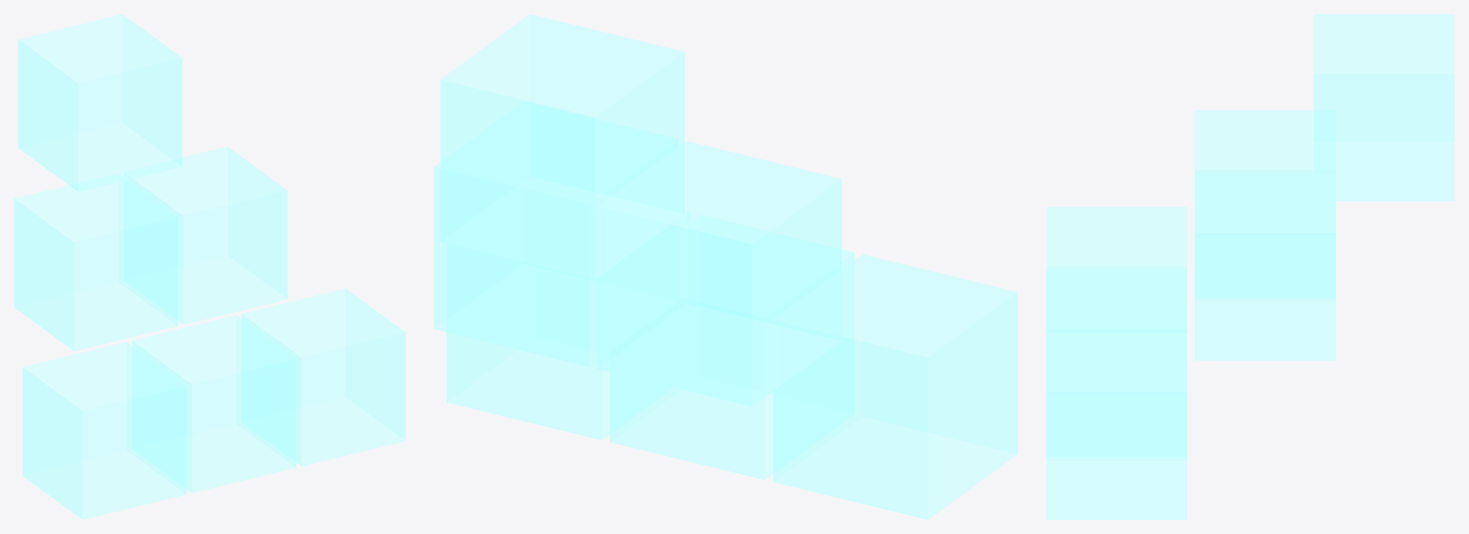
Rendered from GH_Product_Coke.fbx.
3 renders of one model, left to right at view 1: azimuth 30°, elevation 25°; view 2: azimuth 150°, elevation 25°; view 3: azimuth 270°, elevation 25°, orthographic. The views are drawn at different scales.
Parts seen in each view (by area): view 1: SM_Product_Coke; view 2: SM_Product_Coke; view 3: SM_Product_Coke.
Part boxes in pixels (box(x1,y1,x2,y2)): SM_Product_Coke: box(14, 14, 405, 519); SM_Product_Coke: box(434, 14, 1017, 519); SM_Product_Coke: box(1046, 14, 1454, 519).
Size of the model in its own units: 0.59 by 0.57 by 0.55.
